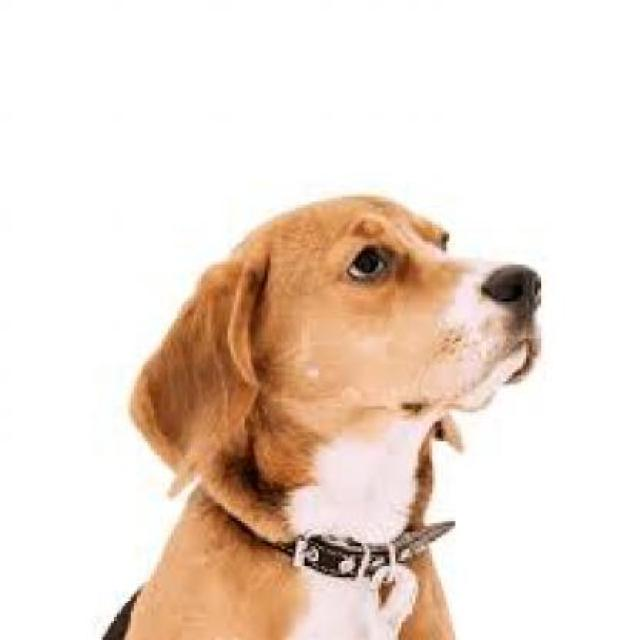animals: (69, 164, 618, 640)
